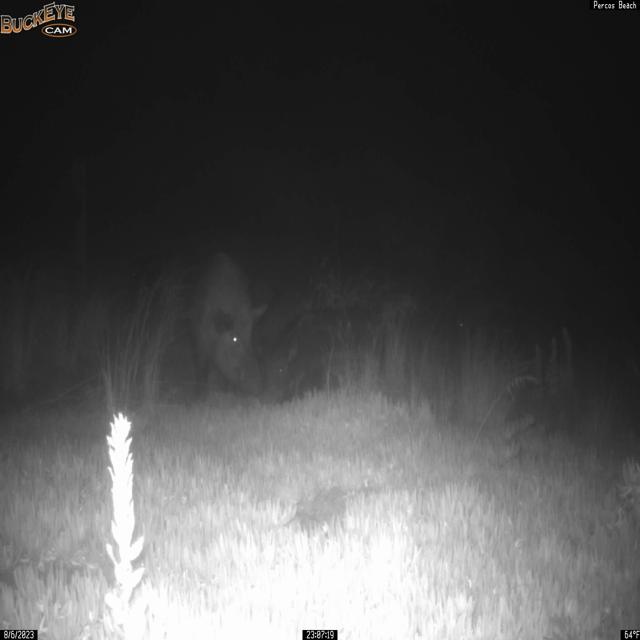pig: (186, 250, 269, 401)
